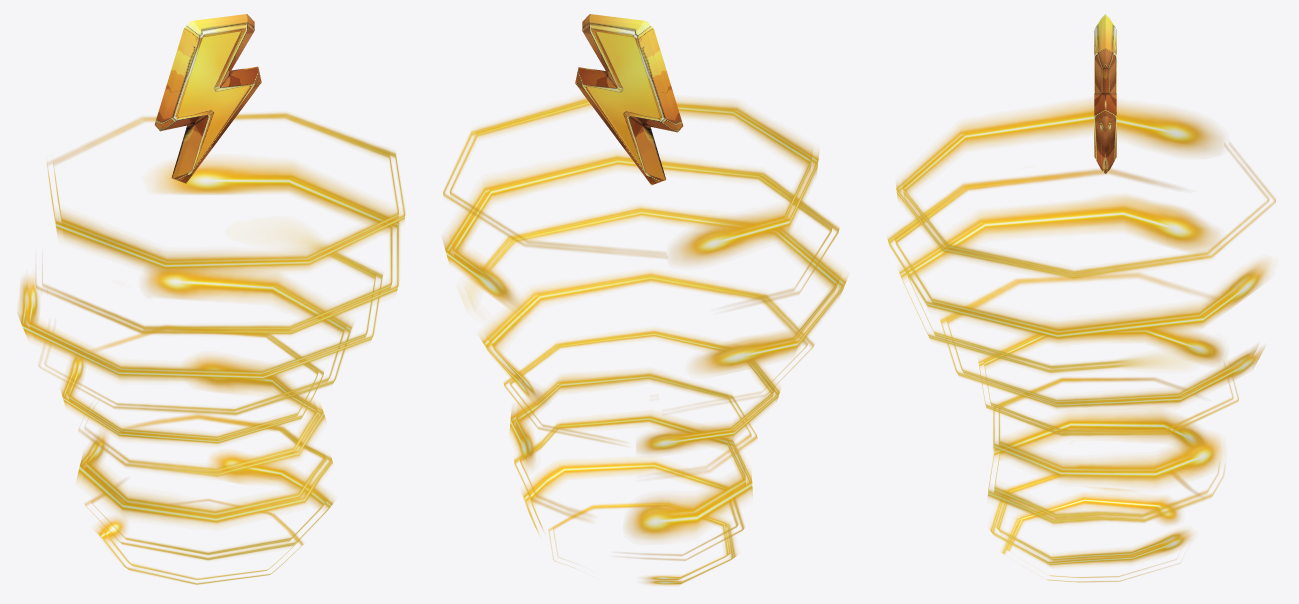
Rendered from powerup_speed.glb.
3 views of the same model, side by side, from view 1: azimuth 30°, elevation 25°; view 2: azimuth 150°, elevation 25°; view 3: azimuth 270°, elevation 25° (orthographic).
Parts seen in each view (by area): view 1: Lightray 8, Speed, Lightray 9, Lightray 6, Lightray 7, Lightray 3, Lightray 4, Lightray 5, Lightray 2, Lightray 1; view 2: Lightray 9, Speed, Lightray 7, Lightray 8, Lightray 3, Lightray 6, Lightray 5, Lightray 4, Lightray 2, Lightray 1; view 3: Lightray 9, Lightray 7, Lightray 8, Lightray 3, Lightray 4, Lightray 6, Lightray 5, Lightray 2, Speed, Lightray 1.
Boxes of the visible parts, x1,y1,x2,y2 form: Lightray 8: (35, 159, 399, 335); Speed: (154, 14, 261, 183); Lightray 9: (47, 112, 405, 276); Lightray 6: (38, 268, 353, 415); Lightray 7: (17, 231, 382, 382); Lightray 3: (76, 414, 332, 525); Lightray 4: (78, 355, 325, 478); Lightray 5: (61, 325, 323, 444); Lightray 2: (85, 451, 334, 560); Lightray 1: (95, 499, 303, 584); Lightray 9: (443, 97, 818, 264); Speed: (575, 14, 683, 185); Lightray 7: (465, 205, 847, 373); Lightray 8: (442, 152, 839, 308); Lightray 3: (514, 412, 752, 540); Lightray 6: (479, 271, 814, 405); Lightray 5: (503, 329, 780, 454); Lightray 4: (509, 370, 757, 476); Lightray 2: (521, 459, 744, 560); Lightray 1: (548, 502, 737, 585); Lightray 9: (896, 100, 1275, 279); Lightray 7: (898, 195, 1218, 373); Lightray 8: (887, 169, 1270, 342); Lightray 3: (987, 411, 1224, 524); Lightray 4: (993, 377, 1222, 486); Lightray 6: (940, 273, 1264, 408); Lightray 5: (978, 324, 1238, 435); Lightray 2: (989, 465, 1197, 566); Speed: (1094, 14, 1116, 173); Lightray 1: (1001, 488, 1180, 582).
Size of the model in its own units: 1.95 by 2.78 by 1.88.
2 materials, 2 textured.
